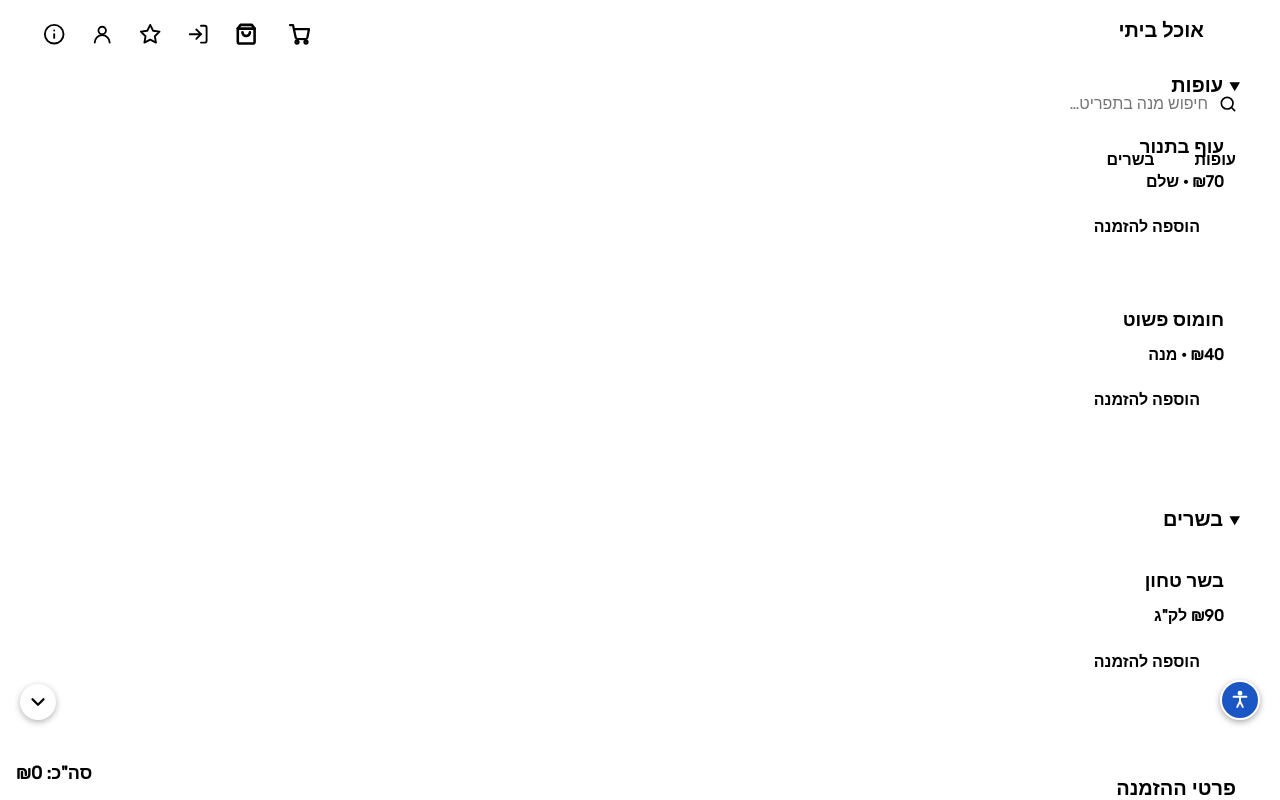
Test: The order page › does not keep anything when the client says no
(page scrolled)
Click the button with aria-label "הוספה להזמנה: חומוס פשוט": click(1147, 400) x1=1074 y1=378 x2=1220 y2=423
(page scrolled)
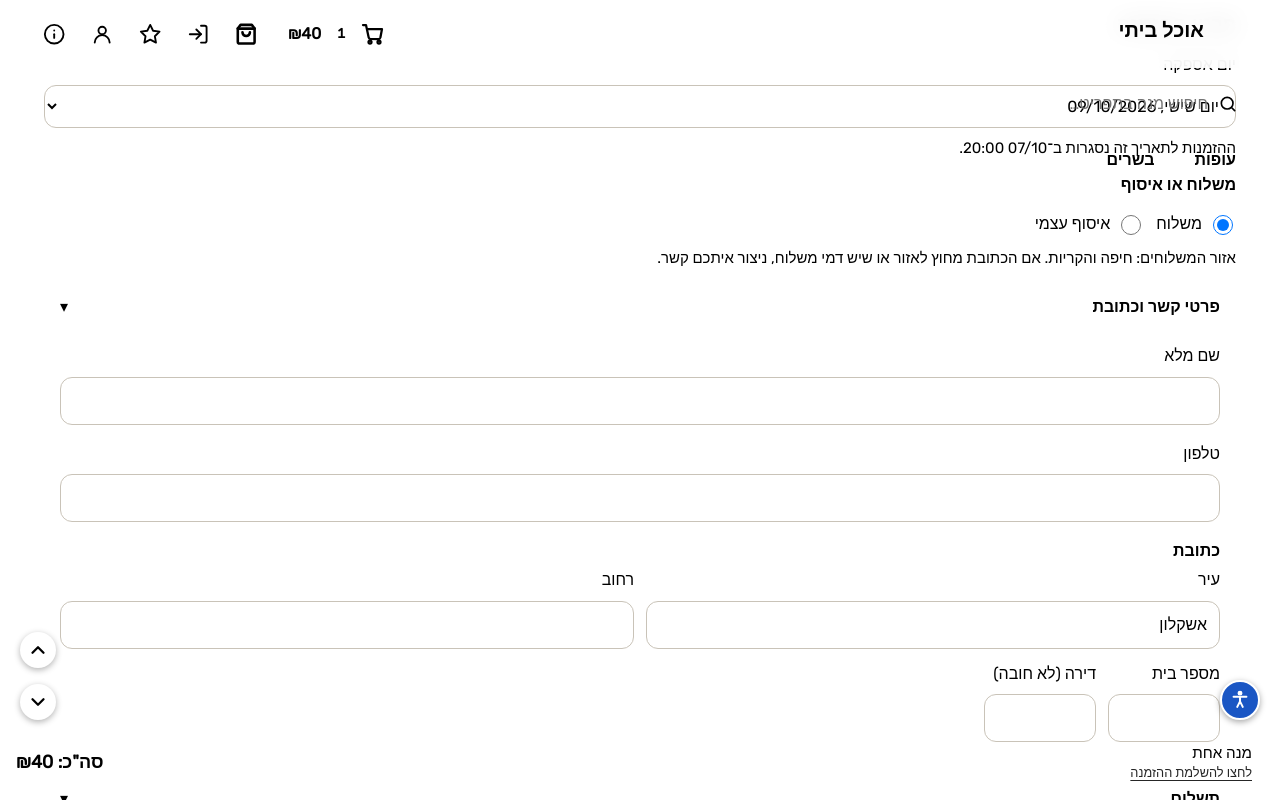
In the field labelled "שם מלא": (640, 401) x1=60 y1=377 x2=1220 y2=425, type "דנה"
In the field labelled "רחוב": (347, 625) x1=60 y1=601 x2=634 y2=649, type "הרצל"
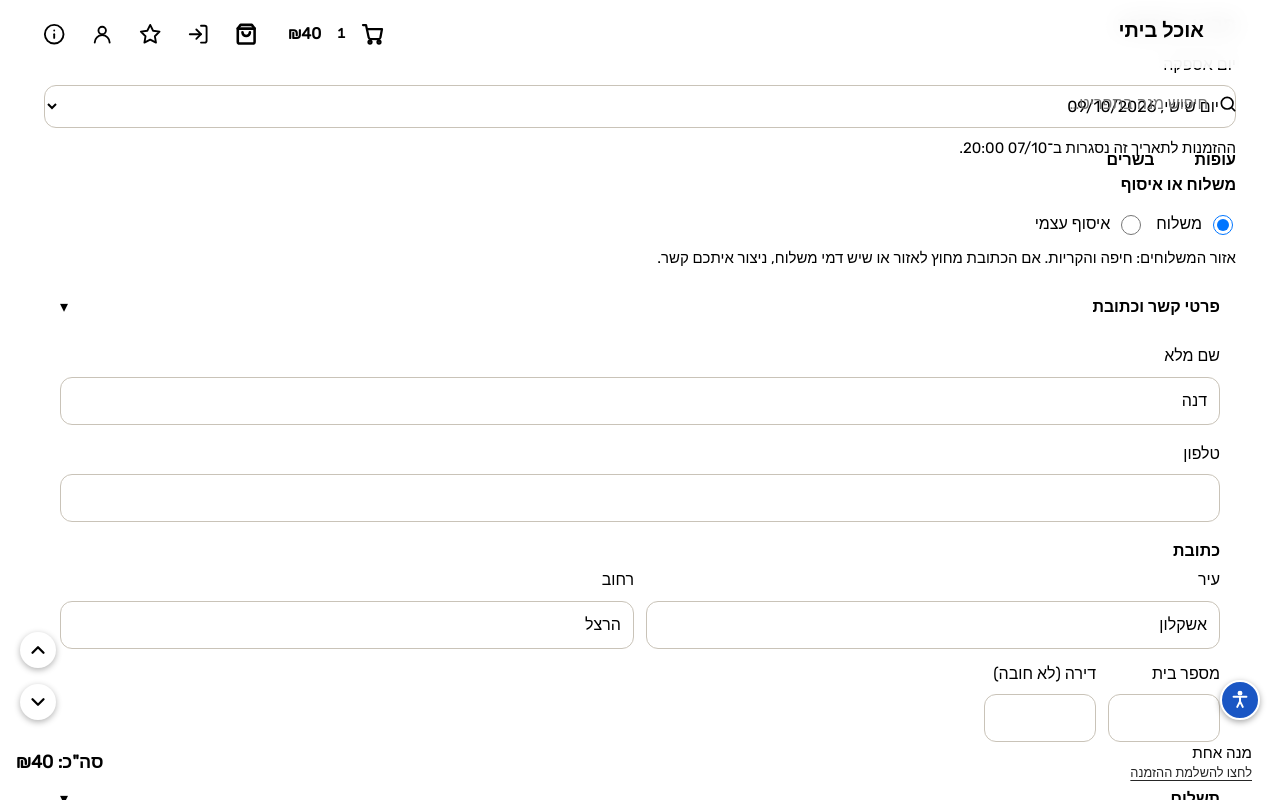
In the field labelled "מספר בית": (1164, 718) x1=1108 y1=694 x2=1220 y2=742, type "1"
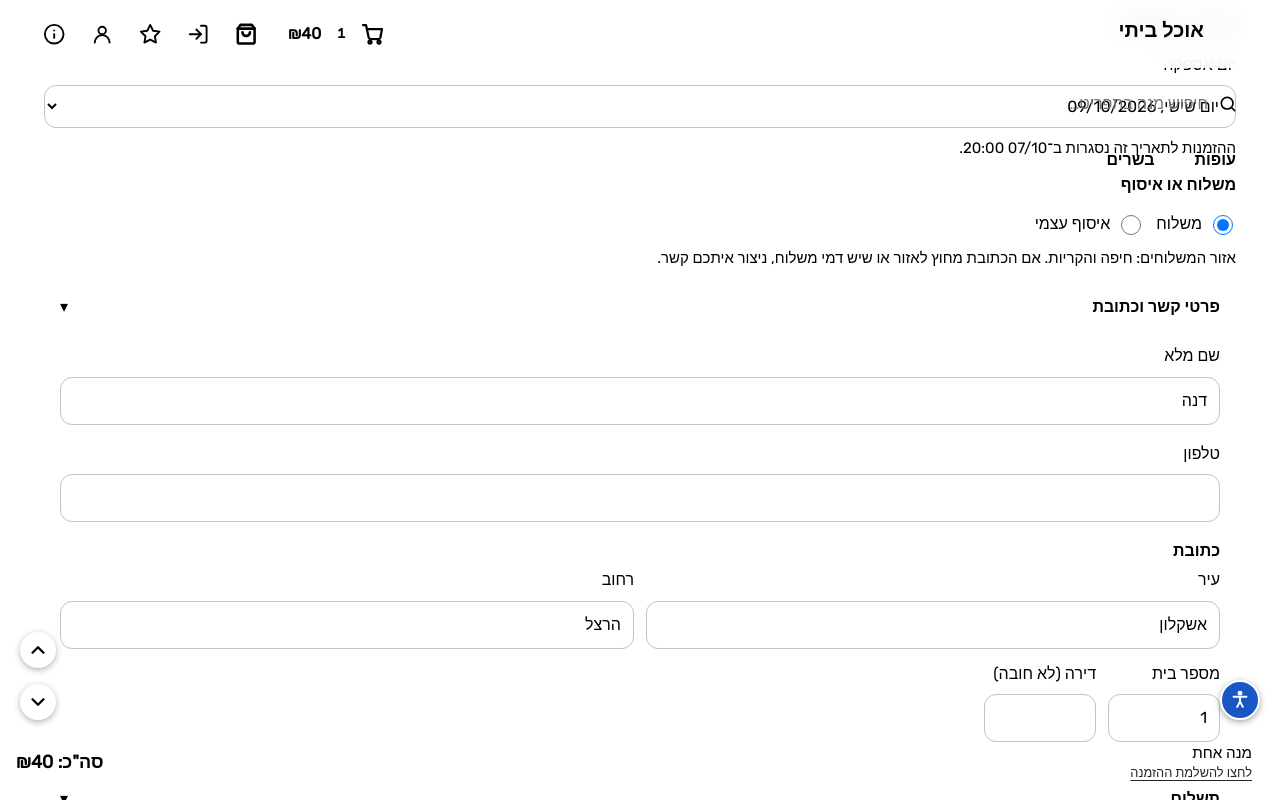
In the field labelled "טלפון": (640, 498) x1=60 y1=474 x2=1220 y2=522, type "050-123-4567"
(page scrolled)
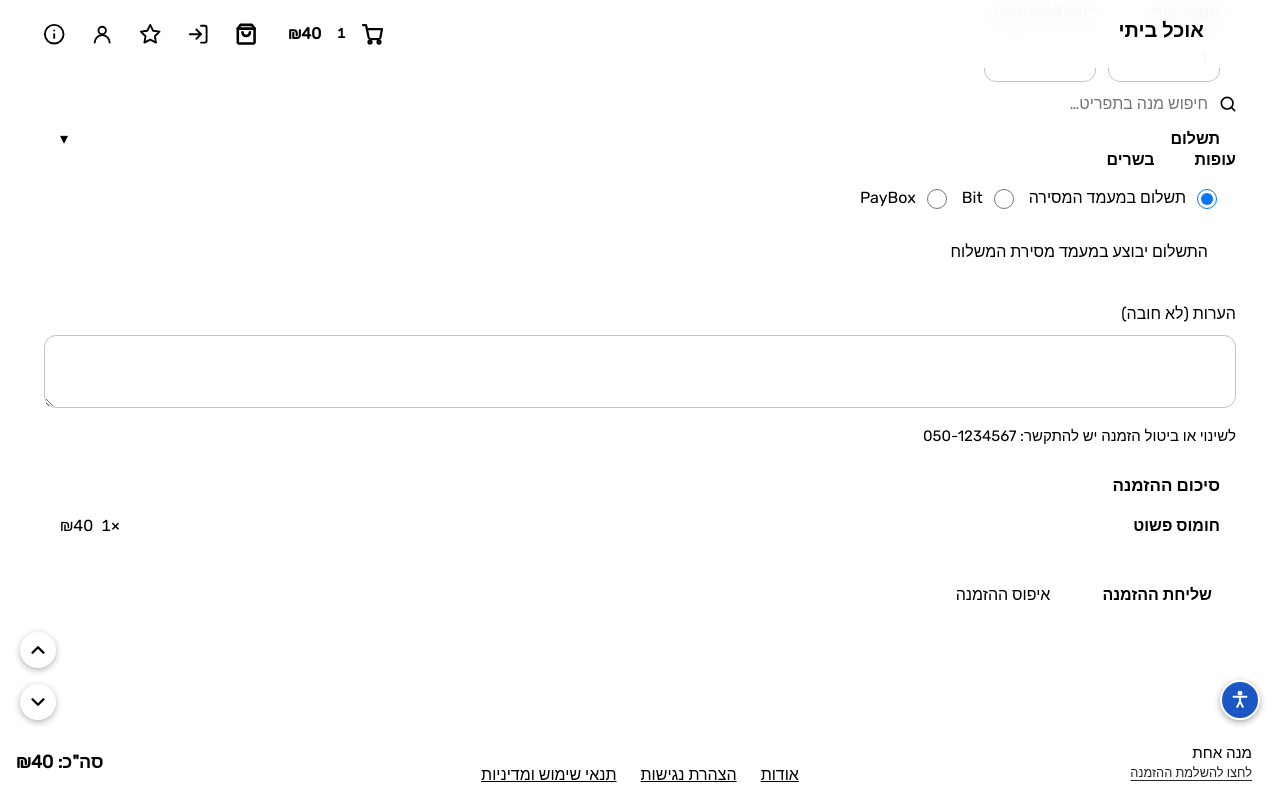
Click the button "שליחת ההזמנה": click(1157, 595) x1=1082 y1=572 x2=1232 y2=618
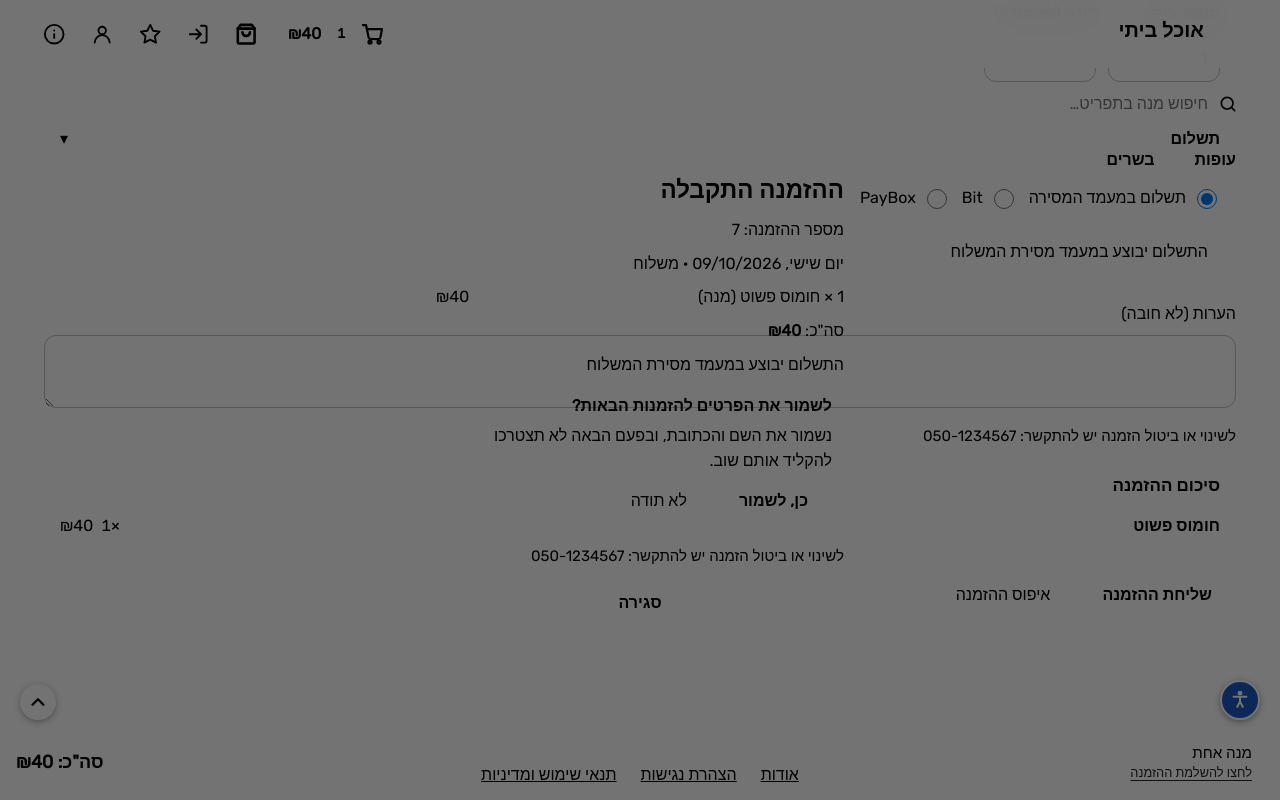
Click the button "לא תודה": click(659, 501) x1=619 y1=479 x2=699 y2=523
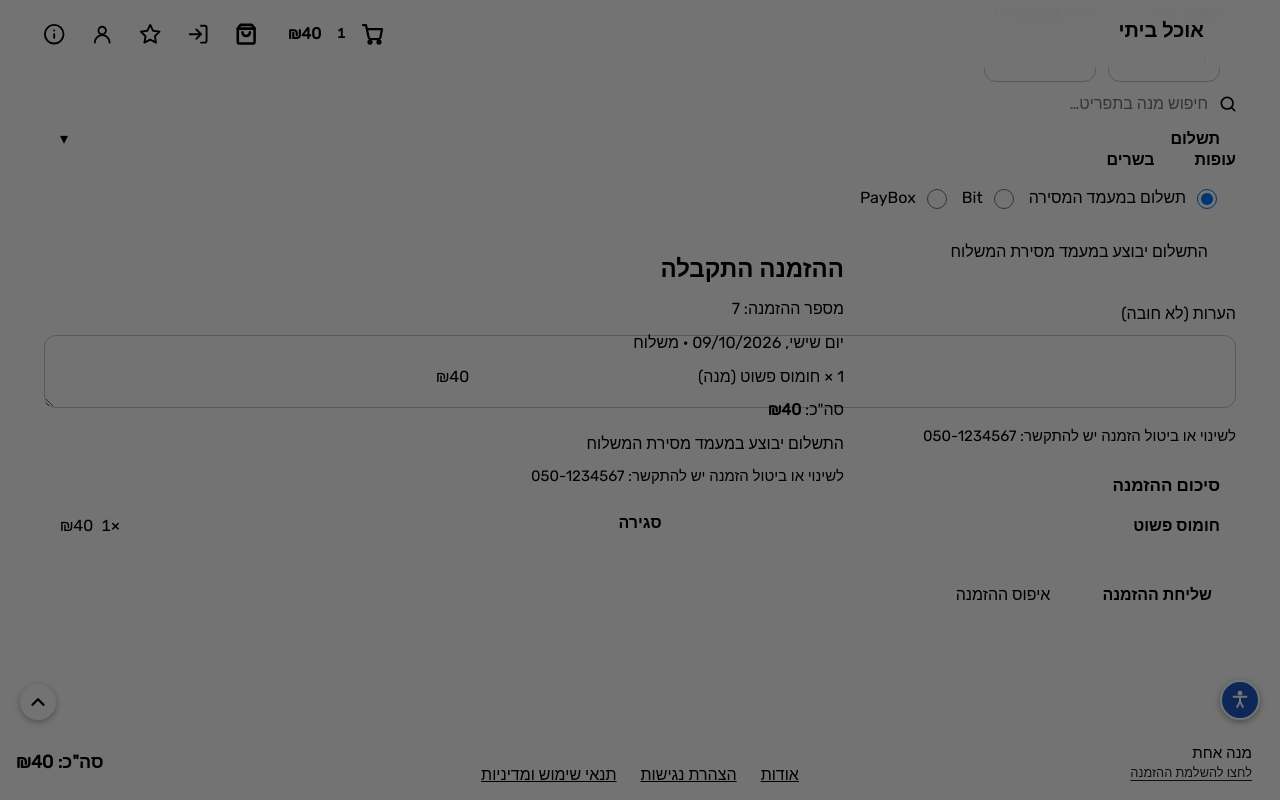
Result: the heading "לשמור את הפרטים להזמנות הבאות?" is gone
